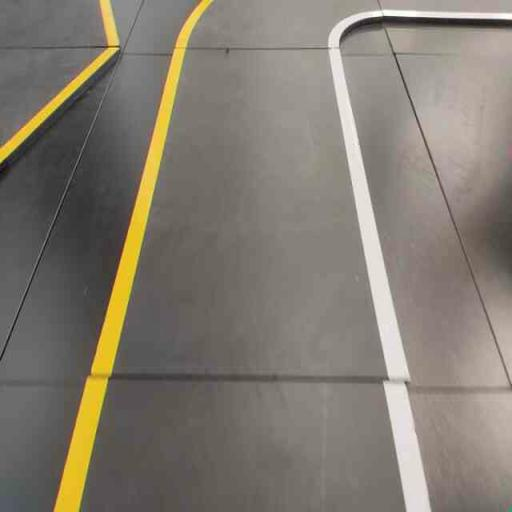straight: (39, 101, 439, 509)
